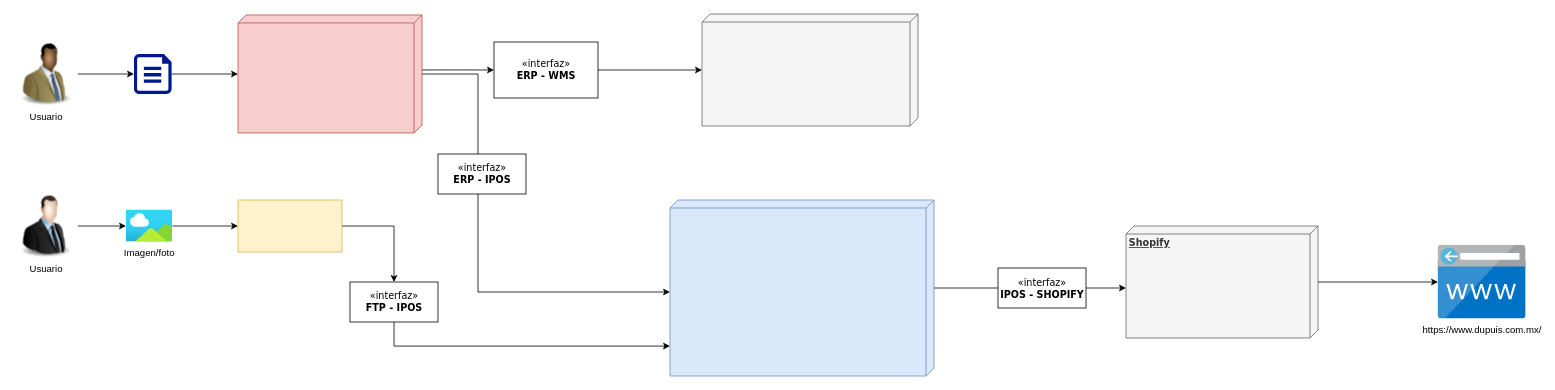
This 1555x390 diagram has some shape labels left out. The shapes that lost their labels are listed below. From the top down, each one's centre as x and y in pixels, then its label:
the point at 152,74: Carga SKU
the point at 329,73: Oracle ERP
the point at 809,69: WMS
the point at 289,225: FTP/Repositorio
the point at 801,287: IPOS
